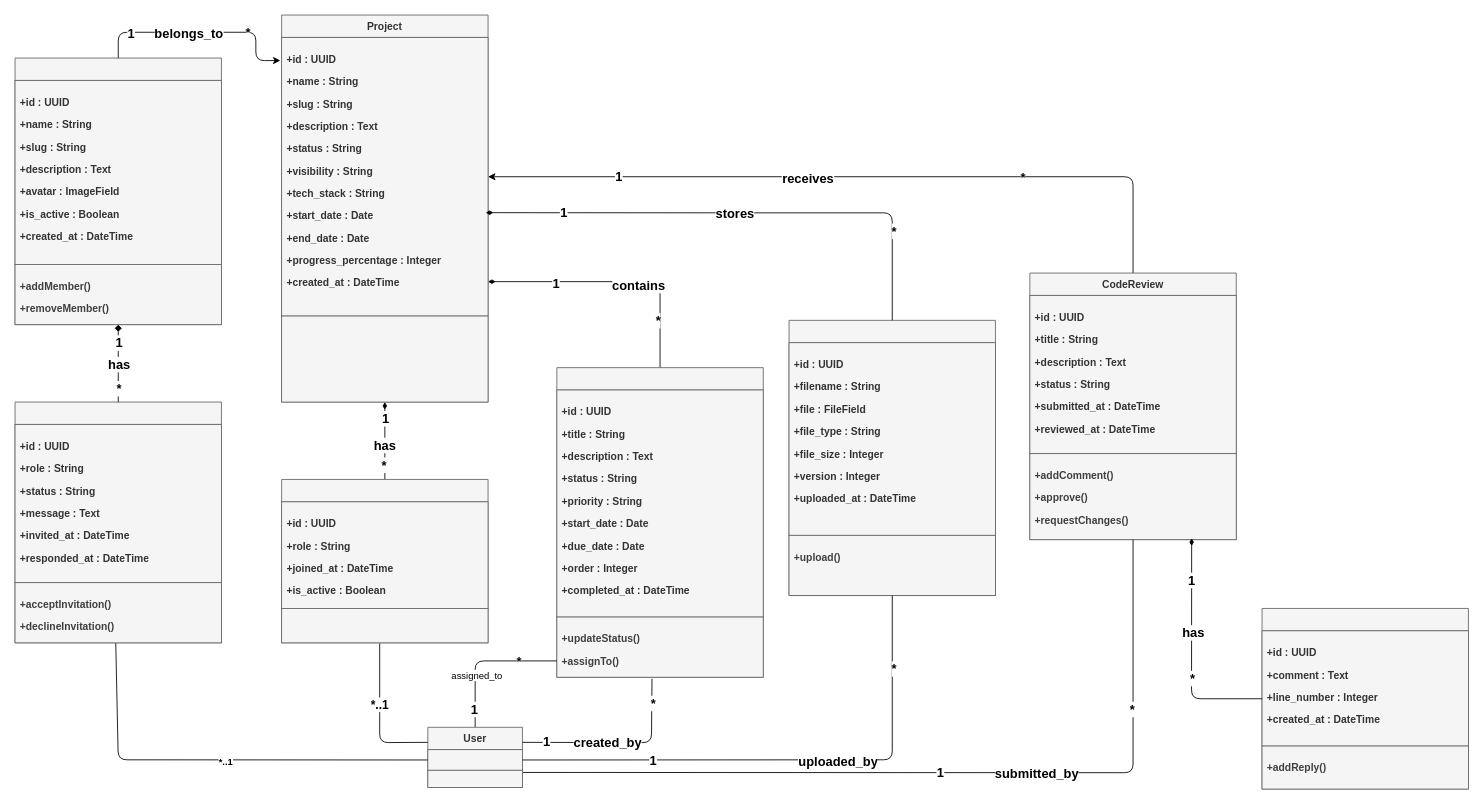
This 1484x807 diagram has some shape labels left out. Each missing label, with the box of its shape:
+addMember() +createTask() +updateProgress(): (281, 315, 488, 402)
+updateRole(): (281, 608, 488, 643)
ProjectFile: (788, 319, 995, 596)
ProjectMembership: (281, 479, 488, 643)
ProjectTask: (556, 367, 763, 677)
ReviewComment: (1261, 608, 1468, 789)
Team: (14, 57, 221, 325)
TeamMembership: (14, 401, 221, 643)
